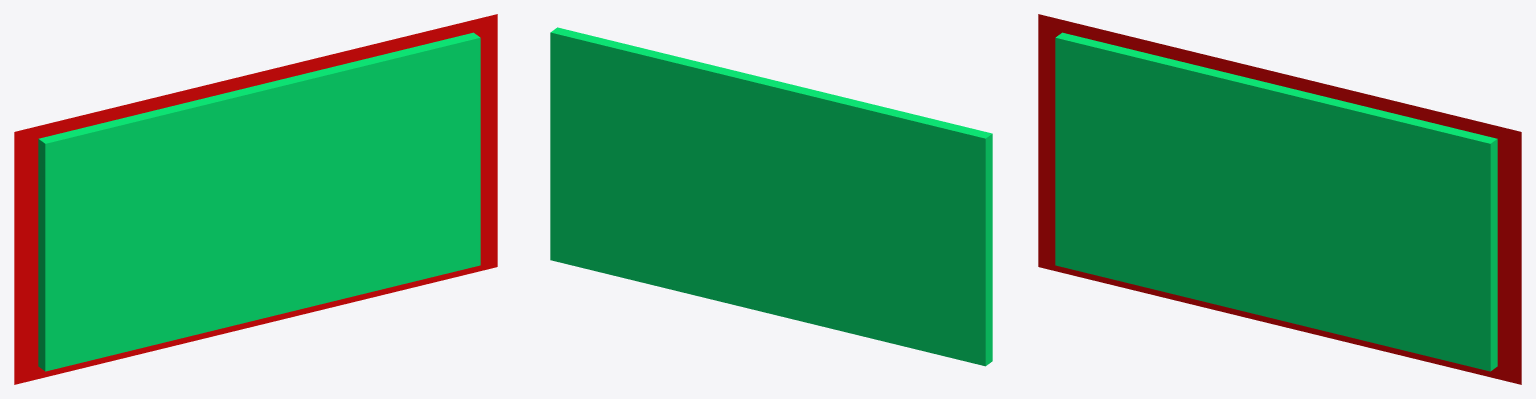
The model's file is BackGround.gltf.
The picture shows the model from 3 angles, left to right: view 1: azimuth 30°, elevation 25°; view 2: azimuth 150°, elevation 25°; view 3: azimuth 330°, elevation 25°; orthographic projection.
Parts seen in each view (by area): view 1: node_Cube_-4320, node_Quad_-1968; view 2: node_Cube_-4320; view 3: node_Cube_-4320, node_Quad_-1968.
Part boxes in pixels (left/top/right/bottom): node_Cube_-4320: left=38, top=32, right=480, bottom=371; node_Quad_-1968: left=14, top=14, right=497, bottom=384; node_Cube_-4320: left=550, top=27, right=992, bottom=366; node_Cube_-4320: left=1055, top=32, right=1497, bottom=371; node_Quad_-1968: left=1038, top=14, right=1521, bottom=384.
Bounding box in the file's own units: 4 × 2 × 0.101.
